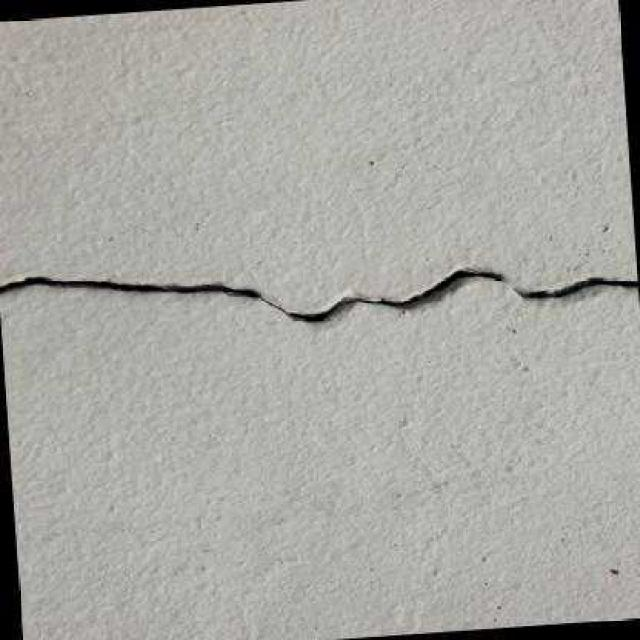D00: (0, 269, 639, 324)
